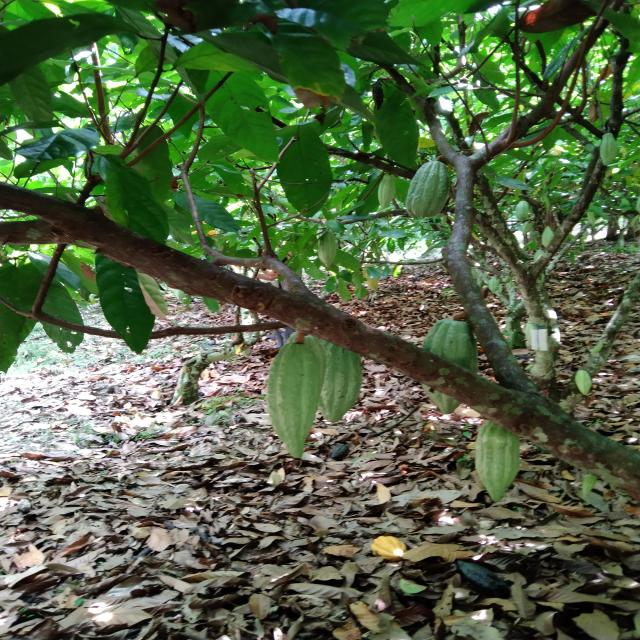Sana: (264, 341, 317, 467), (476, 420, 524, 500), (317, 336, 353, 426), (401, 158, 453, 220), (423, 316, 472, 366), (320, 232, 341, 275), (597, 132, 618, 164), (376, 170, 392, 210), (573, 370, 591, 397)
